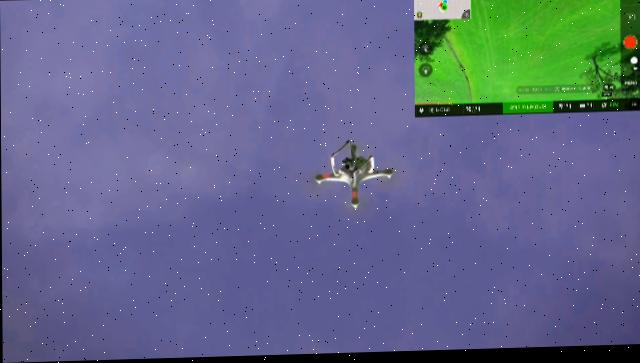drone: (312, 140, 392, 214)
